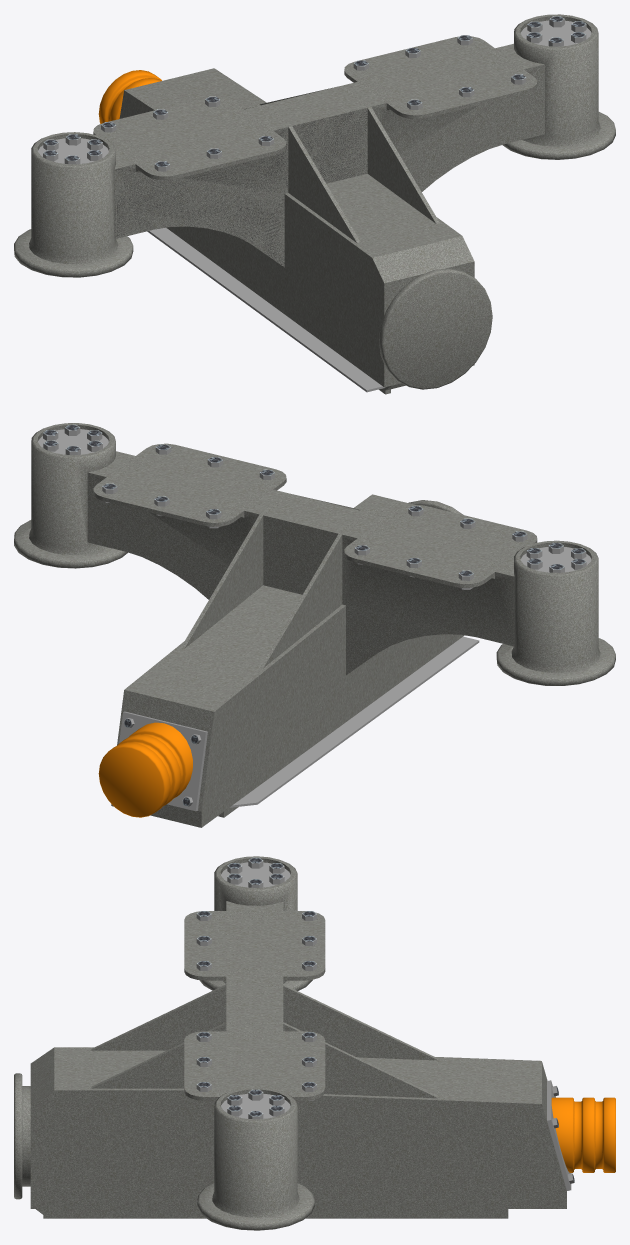
File: Zerocar.dae
3 views of the same model, one above another, from view 1: azimuth 30°, elevation 25°; view 2: azimuth 150°, elevation 25°; view 3: azimuth 270°, elevation 25° (orthographic).
Visible parts, largest first — view 1: Chassis (×8); view 2: Chassis (×10); view 3: Chassis (×12).
Boxes of the visible parts, bbox=[...] form: Chassis (×8): bbox=[14, 14, 615, 394]; Chassis (×10): bbox=[14, 423, 615, 827]; Chassis (×12): bbox=[14, 856, 615, 1230].
Size of the model in its own units: 62.18 by 56.29 by 22.04.
Materials: 6 (3 with a texture image).
